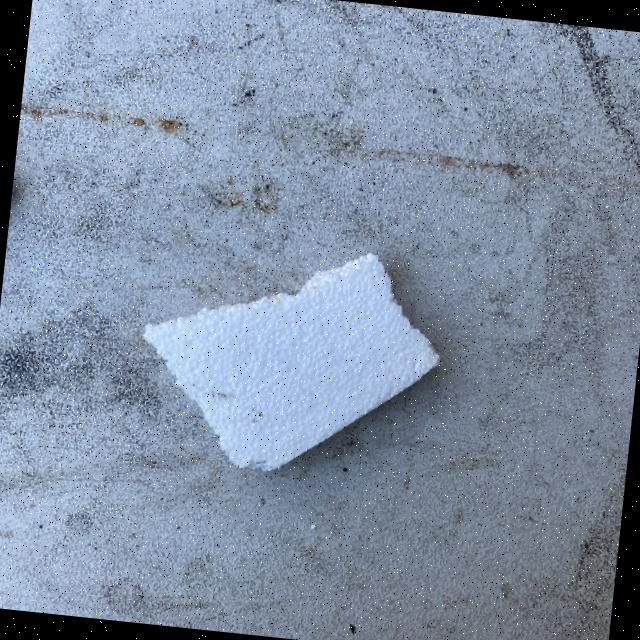styrofoam: (128, 228, 450, 490)
